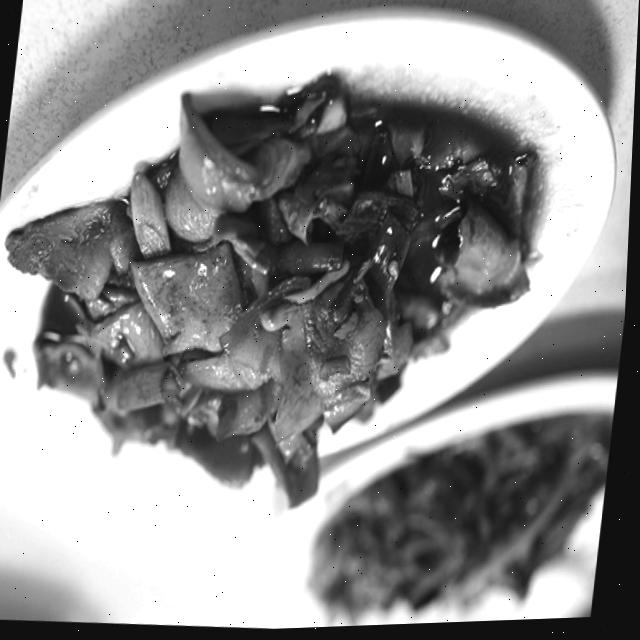猪肉菜式: (0, 14, 602, 536)
